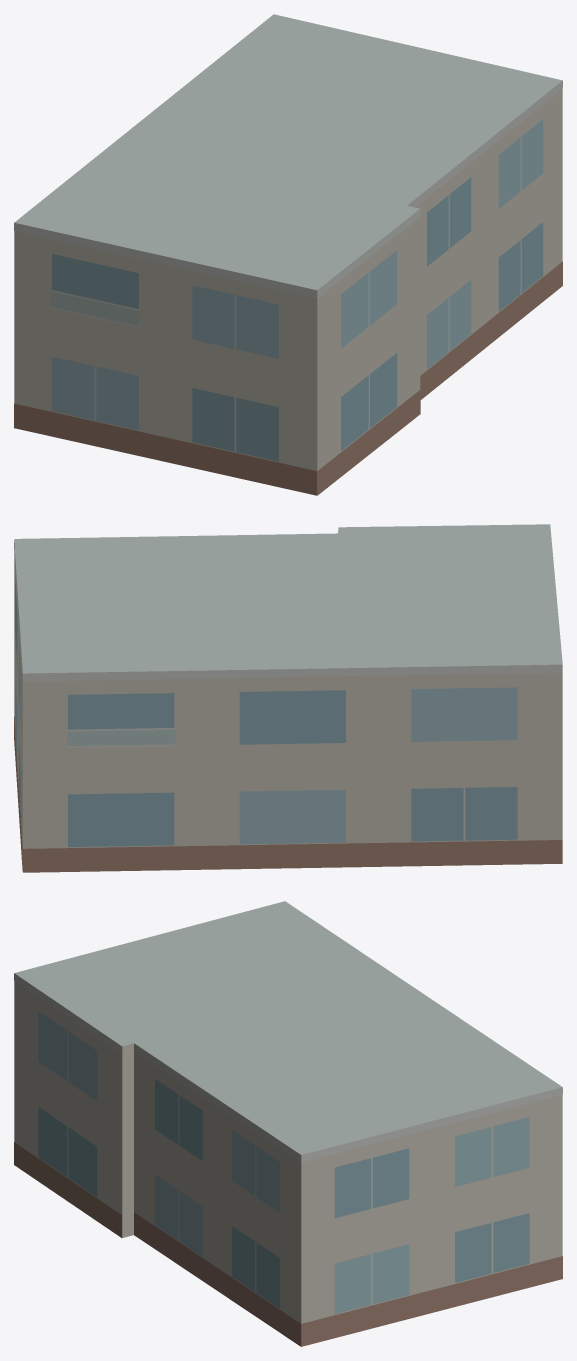
File: survey-upis-32681452.glb
The picture shows the model from 3 angles, top to bottom: view 1: azimuth 30°, elevation 25°; view 2: azimuth 150°, elevation 25°; view 3: azimuth 270°, elevation 25°; orthographic projection. The views are drawn at different scales.
Visible parts, largest first — view 1: survey-upis-32681452.tmp; view 2: survey-upis-32681452.tmp; view 3: survey-upis-32681452.tmp.
Part boxes in pixels (bbox=[...]): survey-upis-32681452.tmp: bbox=[14, 14, 562, 495]; survey-upis-32681452.tmp: bbox=[14, 524, 562, 872]; survey-upis-32681452.tmp: bbox=[14, 901, 562, 1346].
Size of the model in its own units: 17.33 by 6.1 by 15.82.
